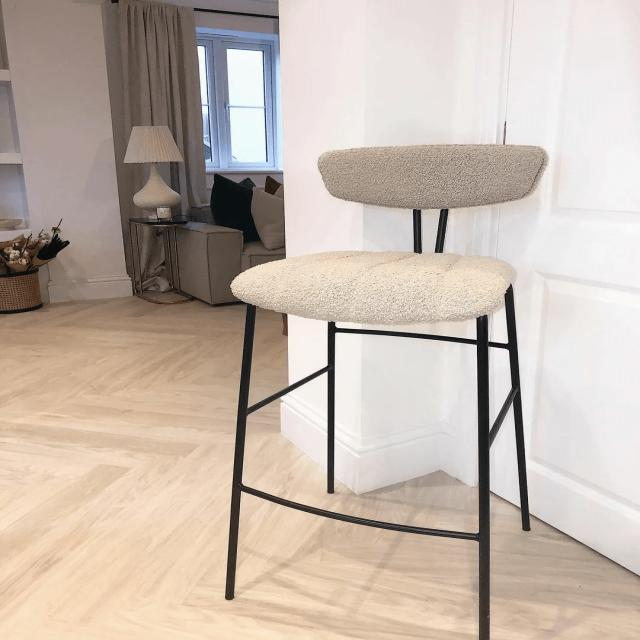chair: (222, 136, 557, 640)
